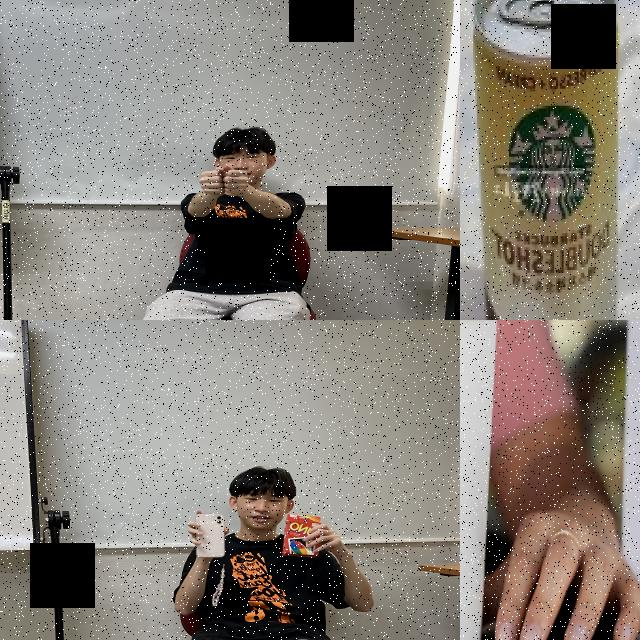can: (469, 0, 625, 320)
cup: (460, 320, 506, 640)
